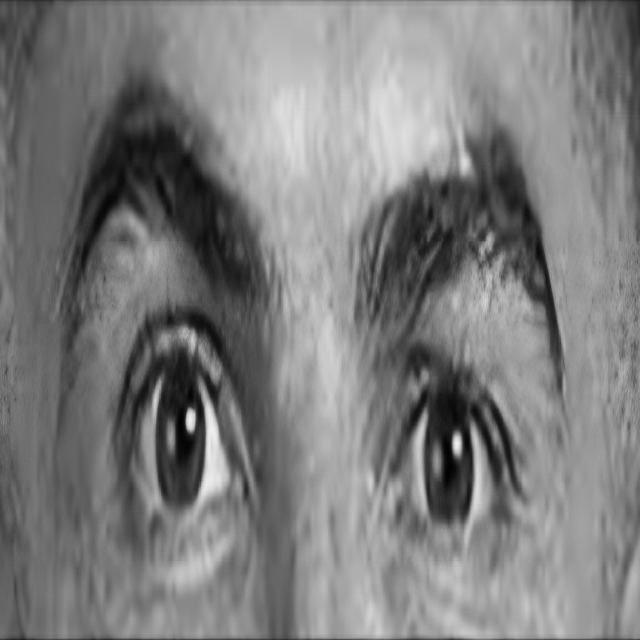real: (50, 102, 576, 630)
